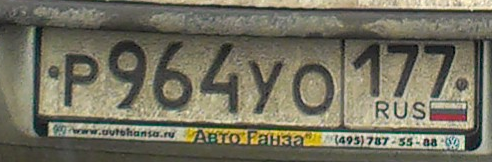character: (194, 40, 241, 120), (147, 40, 194, 115), (106, 39, 149, 113), (287, 60, 338, 122), (384, 37, 421, 102), (245, 58, 285, 118), (63, 54, 100, 115), (422, 39, 459, 99), (353, 40, 386, 100)
